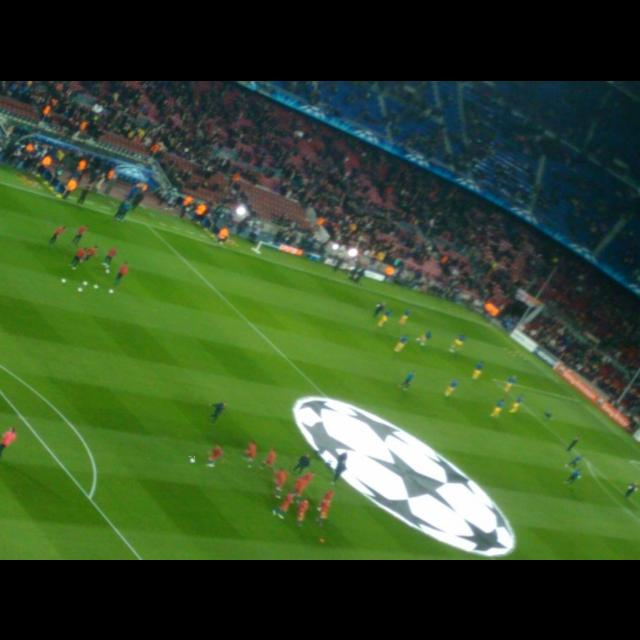Football: (189, 456, 195, 462)
